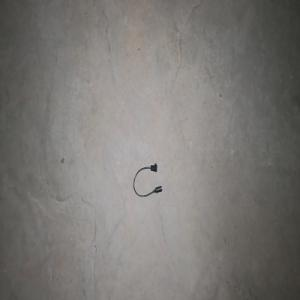Wire: (133, 163, 162, 197)
